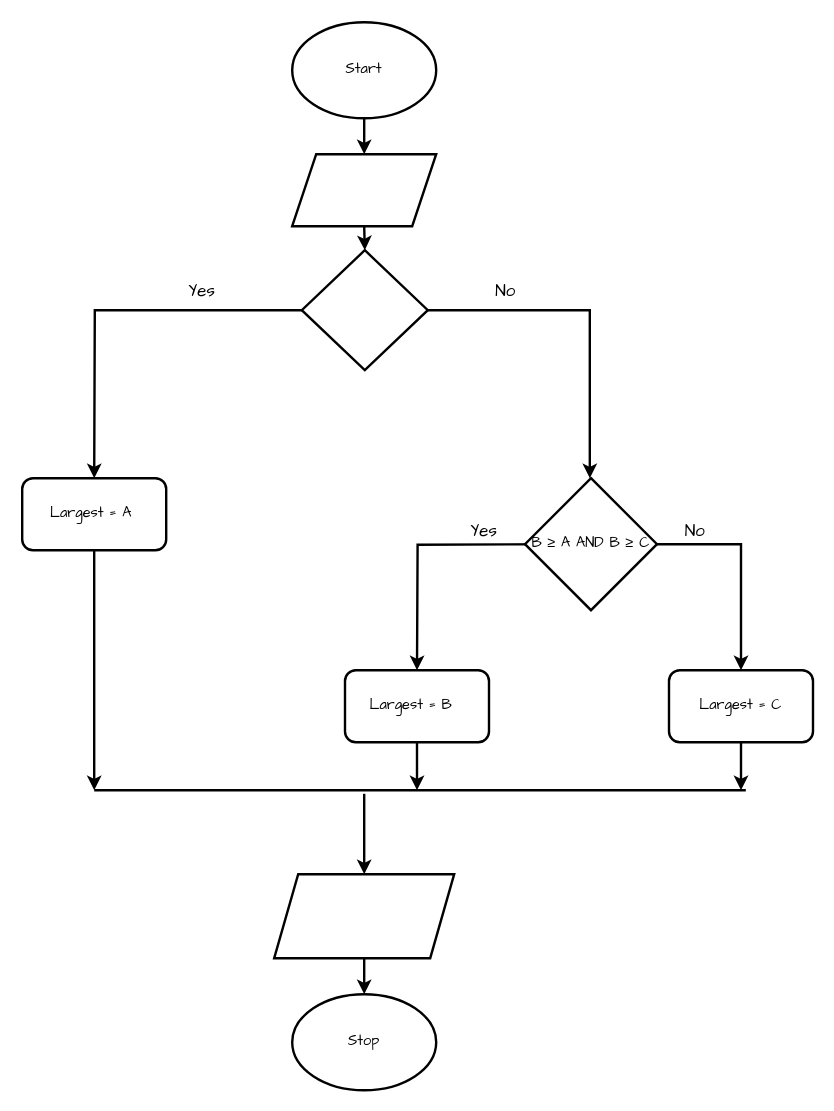
This 834x1111 diagram has some shape labels left out. Here are the shapes that lost their labels. From the top down, the box of each, then its label:
(290, 152, 437, 227): Input A,B,C
(300, 248, 428, 371): A ≥ B AND A ≥ C
(272, 872, 455, 959): Print Largest Number
